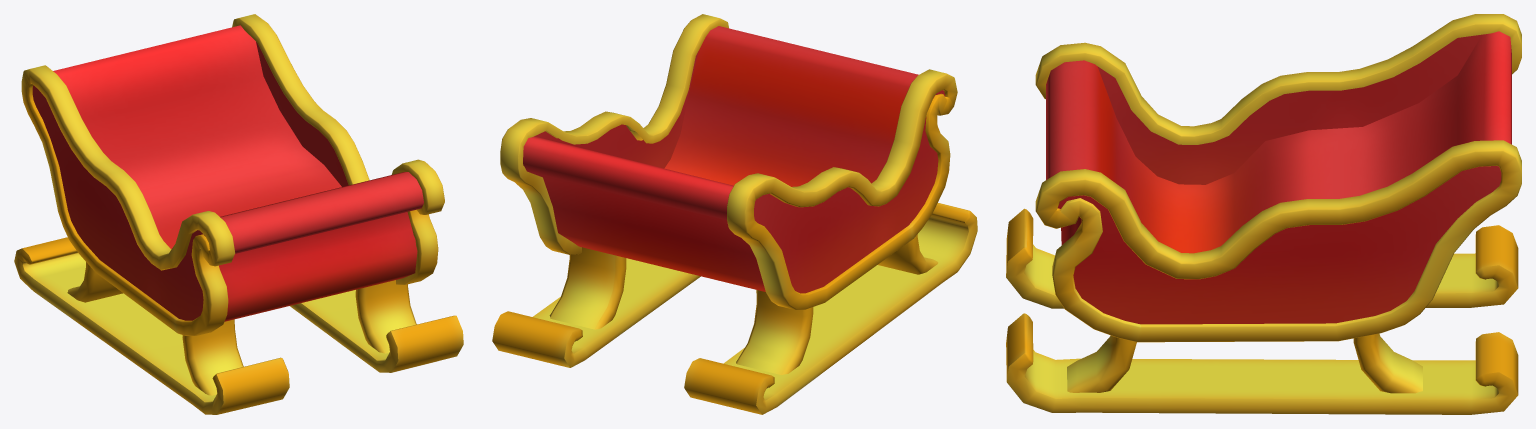
File: Xmas.fbx
3 views of the same model, side by side, from view 1: azimuth 30°, elevation 25°; view 2: azimuth 150°, elevation 25°; view 3: azimuth 270°, elevation 25° (orthographic). The views are drawn at different scales.
Visible parts, largest first — view 1: Cube.006; view 2: Cube.006; view 3: Cube.006.
Part boxes in pixels (x1,y1,x2,y2): Cube.006: [14, 14, 463, 414]; Cube.006: [492, 14, 977, 414]; Cube.006: [1006, 14, 1521, 414].
Size of the model in its own units: 1.98 by 1.6 by 2.89.
